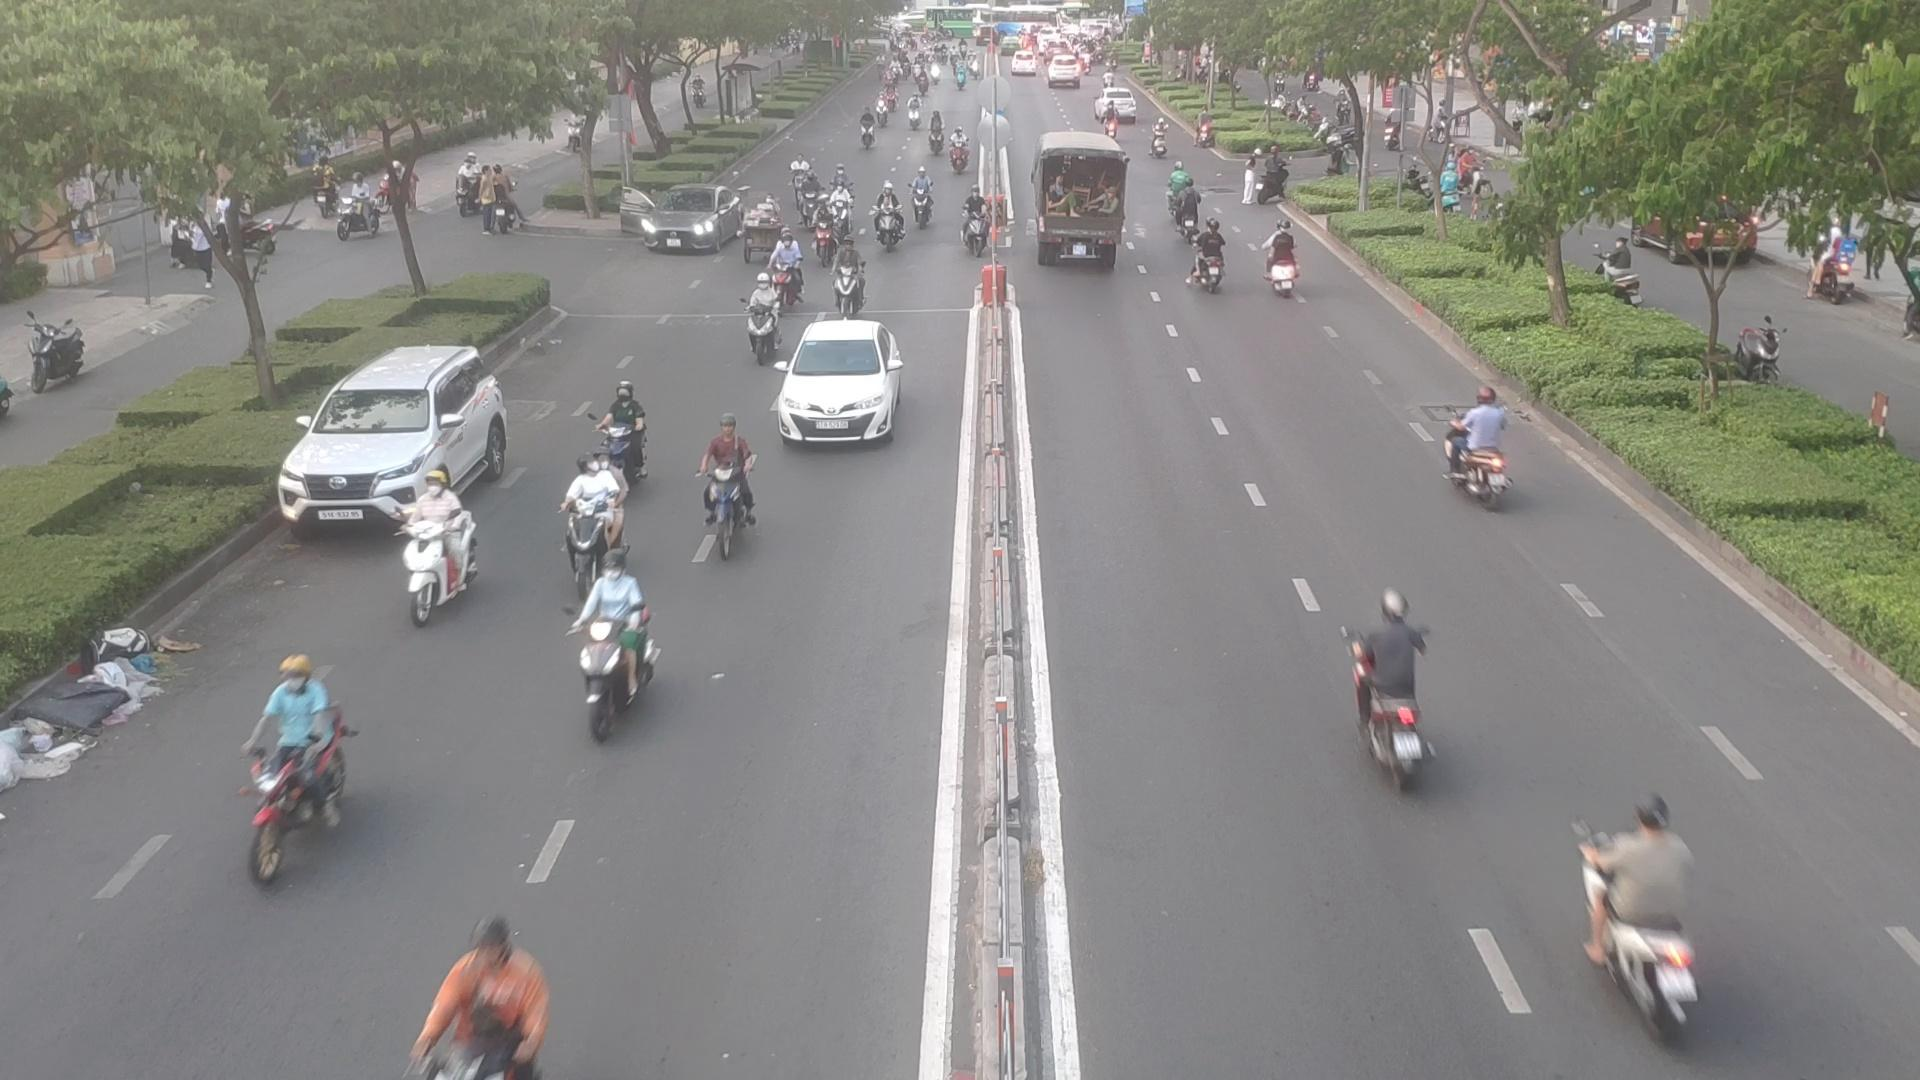car: (285, 343, 521, 529), (771, 322, 906, 444), (616, 193, 746, 260)
motorbike: (1575, 793, 1724, 1044), (229, 658, 348, 878), (410, 928, 554, 1076), (568, 564, 669, 731), (388, 476, 487, 618), (687, 425, 767, 558), (1445, 385, 1524, 504), (560, 456, 634, 564), (591, 385, 655, 477), (957, 187, 1004, 257), (738, 291, 783, 360), (1262, 227, 1305, 295), (1187, 225, 1228, 295), (832, 261, 872, 316), (760, 260, 800, 313), (868, 196, 905, 253), (909, 171, 942, 225), (812, 212, 844, 264), (855, 113, 880, 152)
